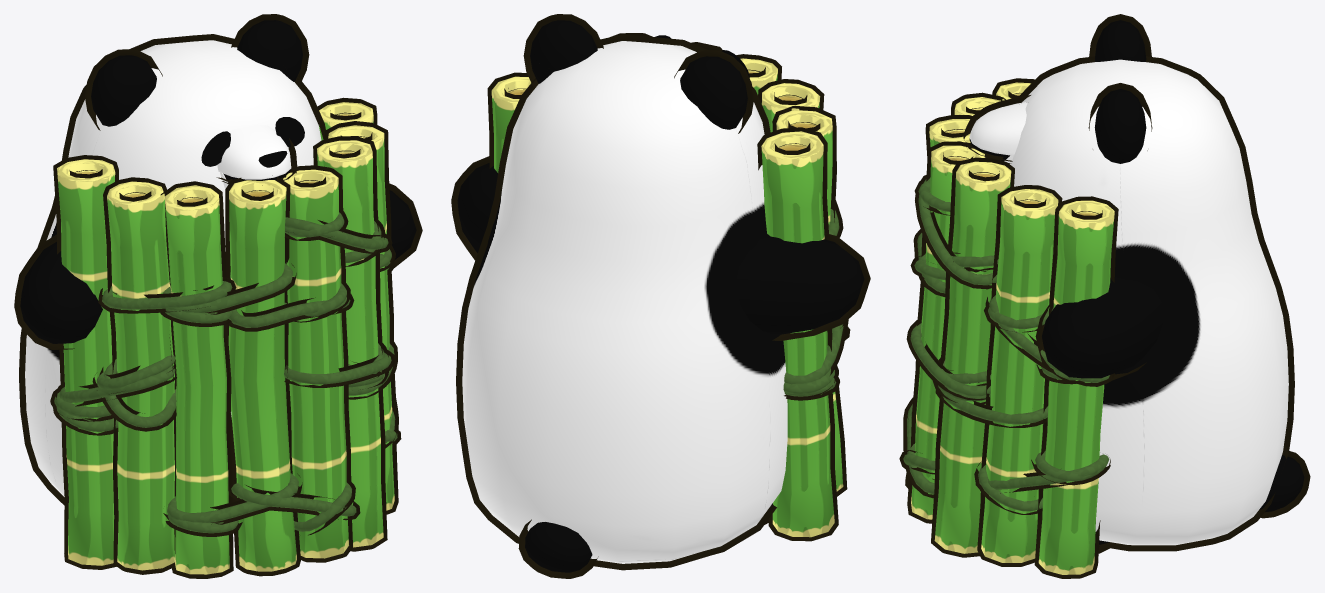
File: bamboo_shield.glb
The picture shows the model from 3 angles, left to right: view 1: azimuth 30°, elevation 25°; view 2: azimuth 150°, elevation 25°; view 3: azimuth 270°, elevation 25°; orthographic projection. The views are drawn at different scales.
Parts seen in each view (by area): view 1: Cylinder.019, Cube.028, BezierCircle.028, Cylinder.020, BezierCircle.029, Cube.036, Cube.030, Cube.029, Cube.034, Plane.005; view 2: Cube.028, Cylinder.019, Cube.030, Cube.036, Cube.029, Cylinder.020, Cube.033, BezierCircle.028, BezierCircle.029; view 3: Cube.028, Cylinder.019, BezierCircle.028, Cylinder.020, Cube.030, Cube.036, BezierCircle.029, Cube.029, Cube.034, Cube.033.
Boxes of the visible parts, bbox=[...] form: Cylinder.019: bbox=[57, 102, 394, 574]; Cube.028: bbox=[25, 40, 321, 496]; BezierCircle.028: bbox=[54, 212, 397, 533]; Cylinder.020: bbox=[53, 97, 398, 578]; BezierCircle.029: bbox=[50, 211, 401, 536]; Cube.036: bbox=[14, 14, 422, 505]; Cube.030: bbox=[20, 190, 416, 343]; Cube.029: bbox=[91, 20, 302, 126]; Cube.034: bbox=[217, 124, 291, 188]; Plane.005: bbox=[201, 117, 304, 166]; Cube.028: bbox=[462, 41, 787, 563]; Cylinder.019: bbox=[491, 58, 843, 537]; Cube.030: bbox=[457, 163, 864, 334]; Cube.036: bbox=[451, 14, 870, 578]; Cube.029: bbox=[530, 20, 747, 129]; Cylinder.020: bbox=[487, 33, 847, 541]; Cube.033: bbox=[525, 522, 592, 572]; BezierCircle.028: bbox=[783, 209, 843, 396]; BezierCircle.029: bbox=[784, 200, 850, 400]; Cube.028: bbox=[1011, 59, 1288, 545]; Cylinder.019: bbox=[911, 82, 1114, 574]; BezierCircle.028: bbox=[903, 178, 1109, 511]; Cylinder.020: bbox=[905, 78, 1118, 578]; Cube.030: bbox=[1042, 277, 1163, 378]; Cube.036: bbox=[963, 14, 1310, 553]; BezierCircle.029: bbox=[899, 175, 1114, 514]; Cube.029: bbox=[1094, 20, 1146, 163]; Cube.034: bbox=[969, 102, 1027, 164]; Cube.033: bbox=[1259, 455, 1304, 512].
Bounding box in the file's own units: 1.07 × 1.23 × 0.9817.
3 materials, 2 textured.
